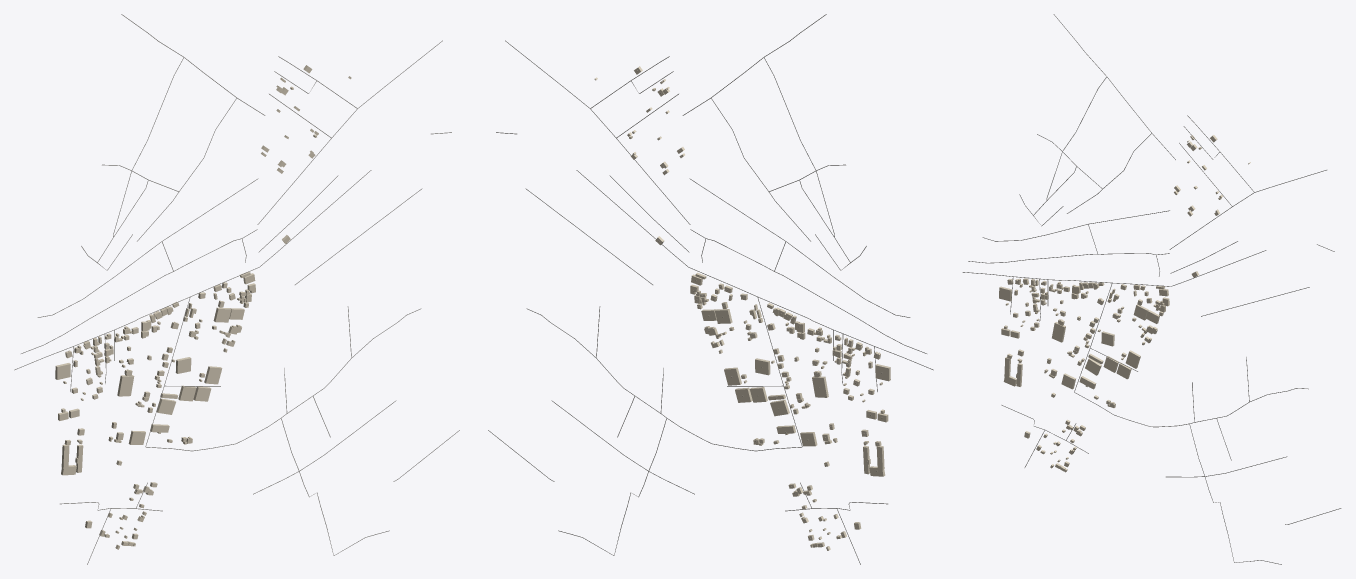
Rendered from historic-palestine-01_19_3430_3130.glb.
3 renders of one model, left to right at view 1: azimuth 30°, elevation 25°; view 2: azimuth 150°, elevation 25°; view 3: azimuth 330°, elevation 25°, orthographic. The views are drawn at different scales.
Bounding box in the file's own units: 1093 × 1392 × 8.7.
